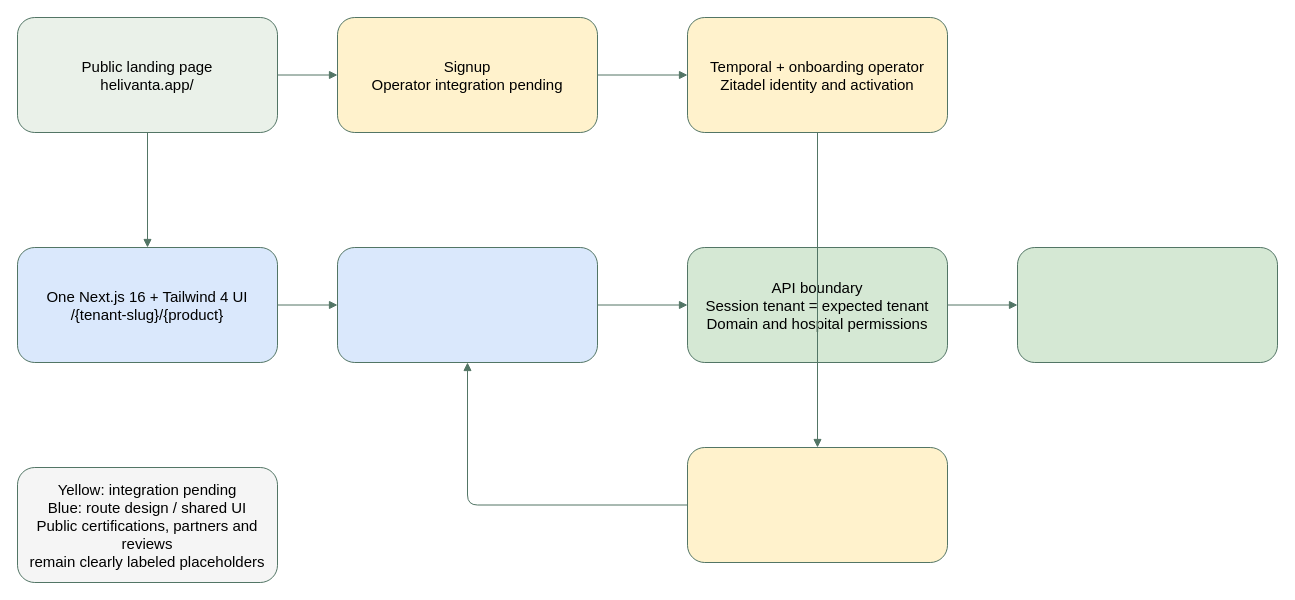
This 1295x600 diagram has some shape labels left out. The centre of each missing label's shape, as x and y in pixels:
PostgreSQL forced RLS Explicit hospital sharing grants: (x=1147, y=304)
Resolve slug to immutable tenant ID Verify membership: (x=467, y=304)
Tenant registry Unique reserved slug + UUID: (x=817, y=504)
